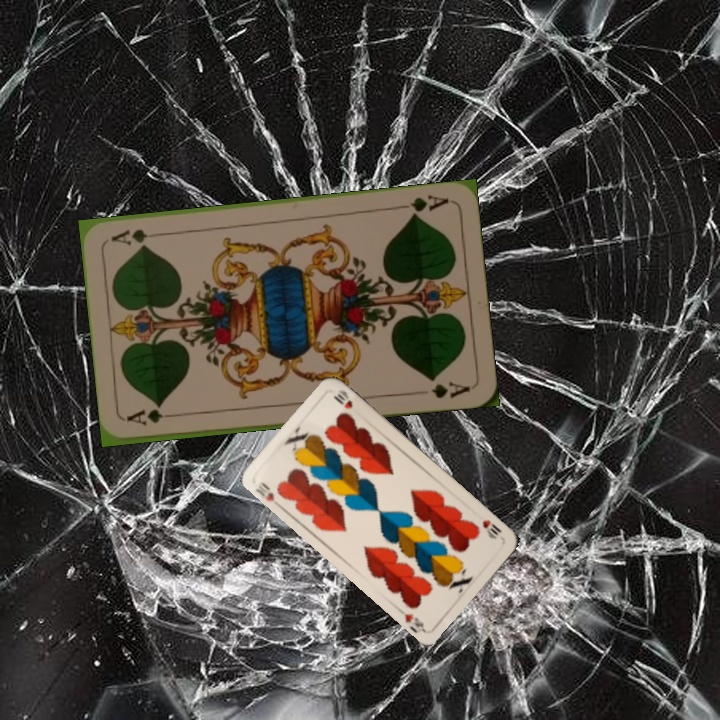GA: (393, 190, 451, 219), (123, 406, 183, 428)
H10: (478, 515, 504, 542), (252, 478, 277, 504)
